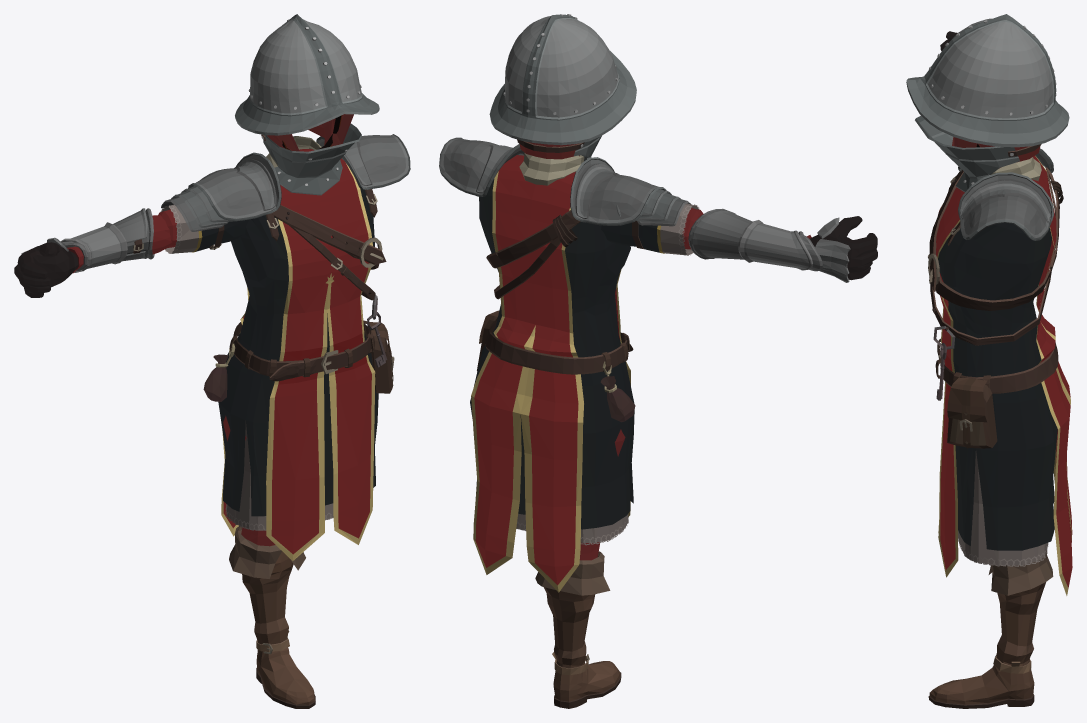
File: gateGuardDetailedFemale.glb
3 renders of one model, left to right at view 1: azimuth 30°, elevation 25°; view 2: azimuth 150°, elevation 25°; view 3: azimuth 270°, elevation 25°, orthographic. The views are drawn at different scales.
Parts seen in each view (by area): view 1: gateGuardBanner, gateGuardDetails, gateGuardDetailedHelmet, gateGuardDetailedBody, gateGuardDetailedLowerLeg, gateGuardDetailedlowerArm, gateGuardDetailedUpperArm, gateGuardDetailedGloves, gateGuardDetailedFoot; view 2: gateGuardBanner, gateGuardDetailedBody, gateGuardDetailedHelmet, gateGuardDetails, gateGuardDetailedlowerArm, gateGuardDetailedLowerLeg, gateGuardDetailedUpperArm, gateGuardDetailedGloves, gateGuardDetailedFoot; view 3: gateGuardDetailedBody, gateGuardDetailedHelmet, gateGuardDetails, gateGuardBanner, gateGuardDetailedLowerLeg, gateGuardDetailedFoot, key.
Part boxes in pixels (bbox=[...]): gateGuardBanner: bbox=[221, 149, 375, 560]; gateGuardDetails: bbox=[188, 134, 410, 401]; gateGuardDetailedHelmet: bbox=[235, 14, 379, 195]; gateGuardDetailedBody: bbox=[218, 136, 378, 530]; gateGuardDetailedLowerLeg: bbox=[229, 526, 305, 654]; gateGuardDetailedlowerArm: bbox=[59, 208, 171, 273]; gateGuardDetailedUpperArm: bbox=[158, 186, 249, 253]; gateGuardDetailedGloves: bbox=[14, 237, 78, 297]; gateGuardDetailedFoot: bbox=[256, 647, 315, 708]; gateGuardBanner: bbox=[471, 155, 630, 592]; gateGuardDetailedBody: bbox=[470, 153, 634, 545]; gateGuardDetailedHelmet: bbox=[489, 14, 636, 161]; gateGuardDetails: bbox=[439, 137, 666, 422]; gateGuardDetailedlowerArm: bbox=[688, 208, 822, 271]; gateGuardDetailedLowerLeg: bbox=[535, 542, 610, 674]; gateGuardDetailedUpperArm: bbox=[601, 189, 703, 255]; gateGuardDetailedGloves: bbox=[810, 216, 877, 282]; gateGuardDetailedFoot: bbox=[553, 661, 621, 708]; gateGuardDetailedBody: bbox=[938, 157, 1057, 566]; gateGuardDetailedHelmet: bbox=[906, 14, 1069, 192]; gateGuardDetails: bbox=[928, 148, 1063, 448]; gateGuardBanner: bbox=[936, 155, 1072, 595]; gateGuardDetailedLowerLeg: bbox=[988, 550, 1053, 673]; gateGuardDetailedFoot: bbox=[928, 665, 1034, 708]; key: bbox=[936, 343, 946, 400].
Bounding box in the file's own units: 1.26 × 2 × 0.4311.
